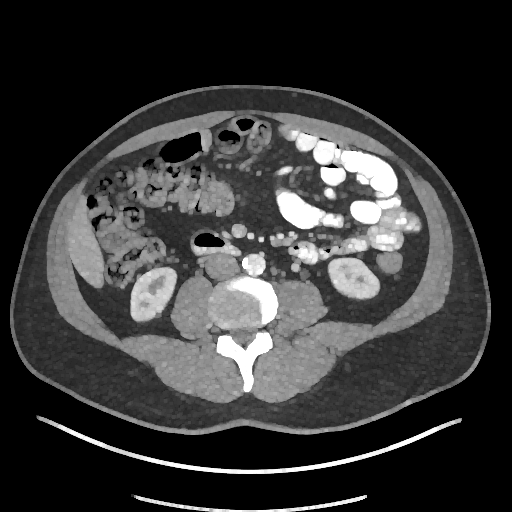Lesion: (152, 309, 164, 321)
